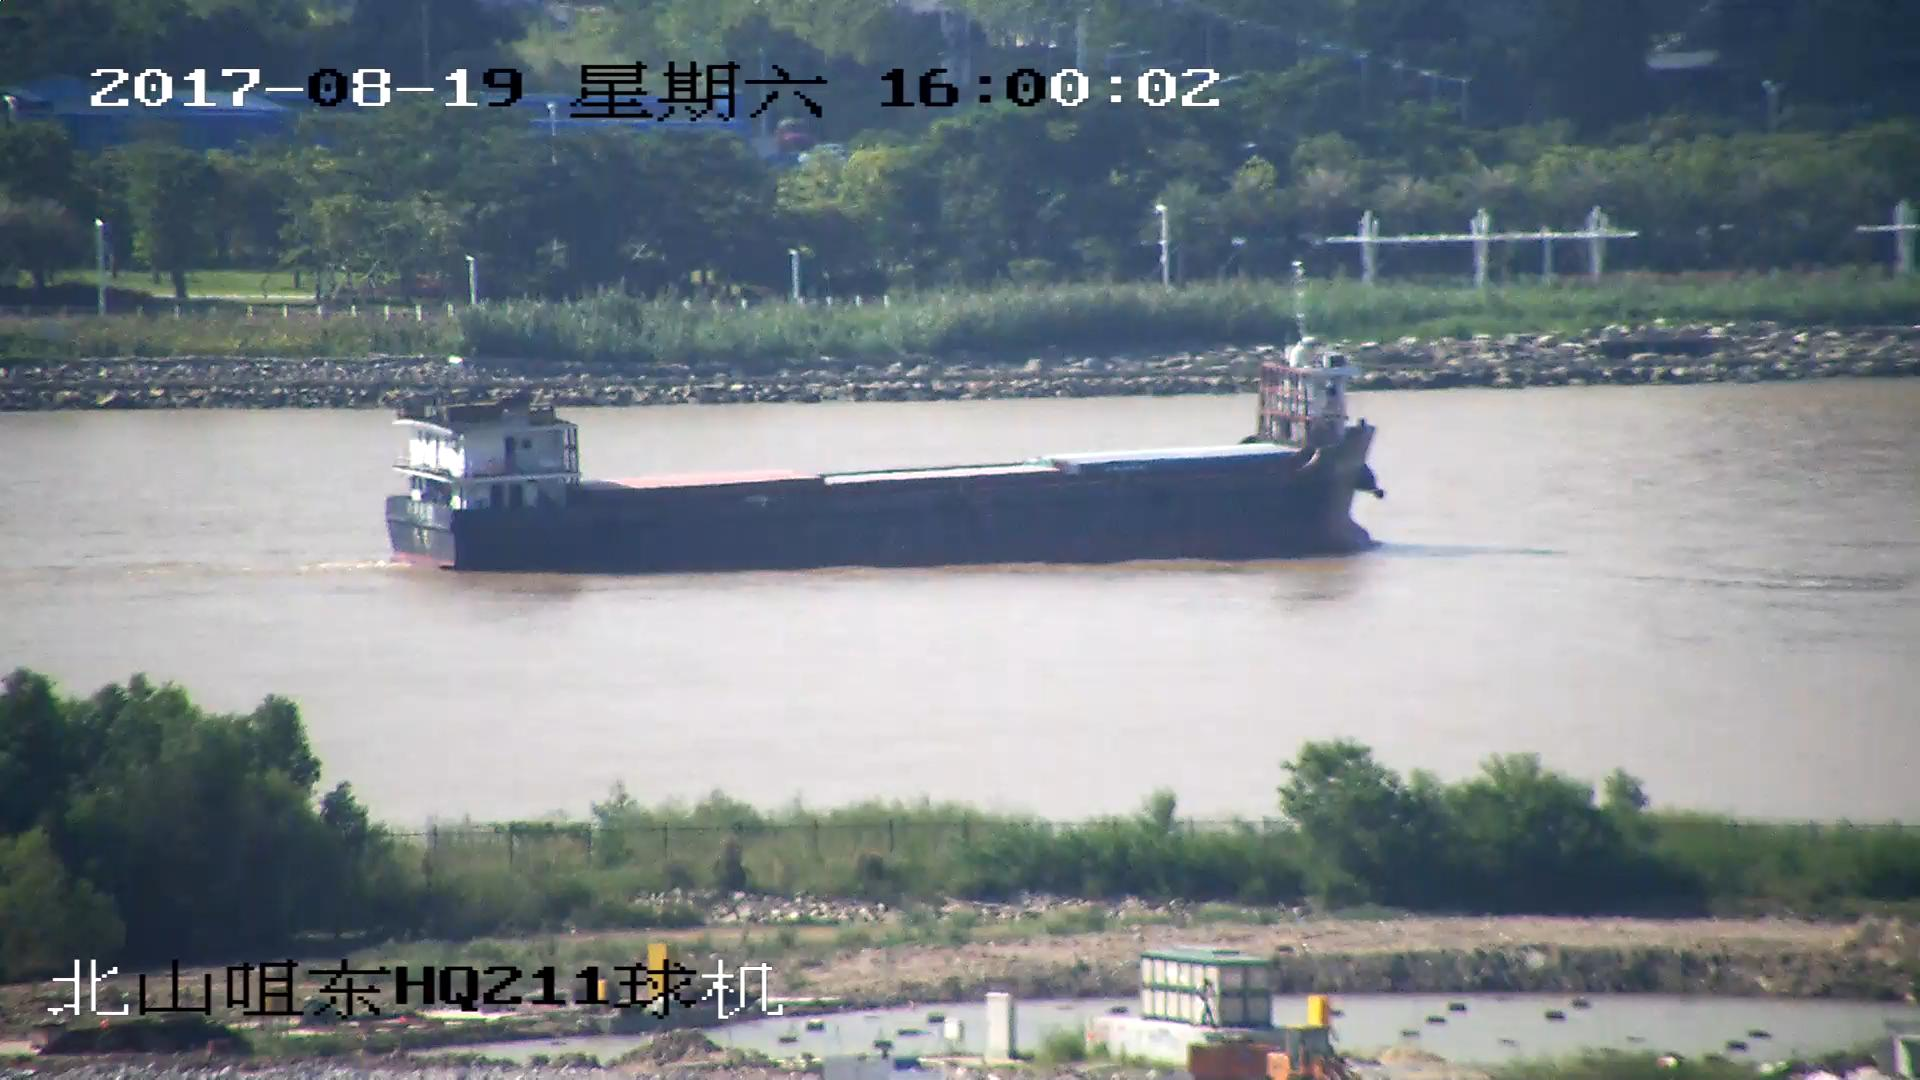general cargo ship: (382, 327, 1394, 570)
